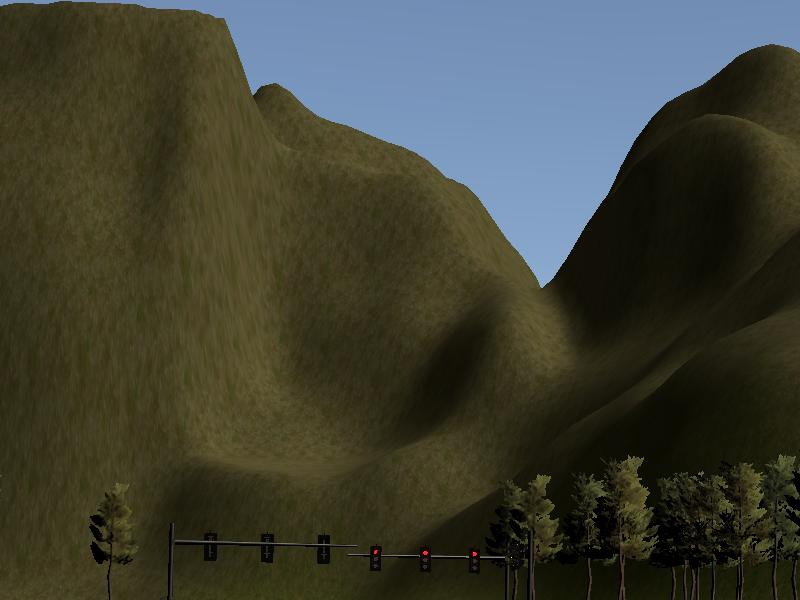Red: (469, 548, 480, 574), (371, 547, 381, 571), (420, 548, 430, 572)
